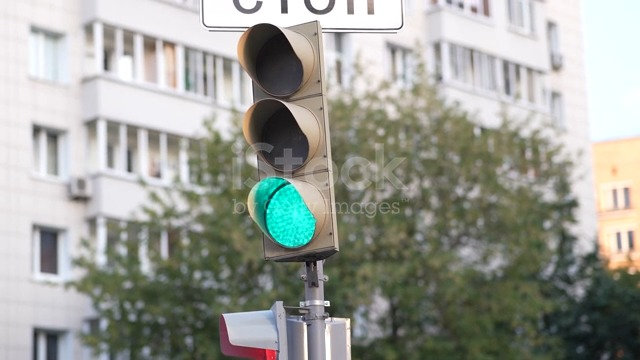green traffic light: (223, 11, 347, 265)
